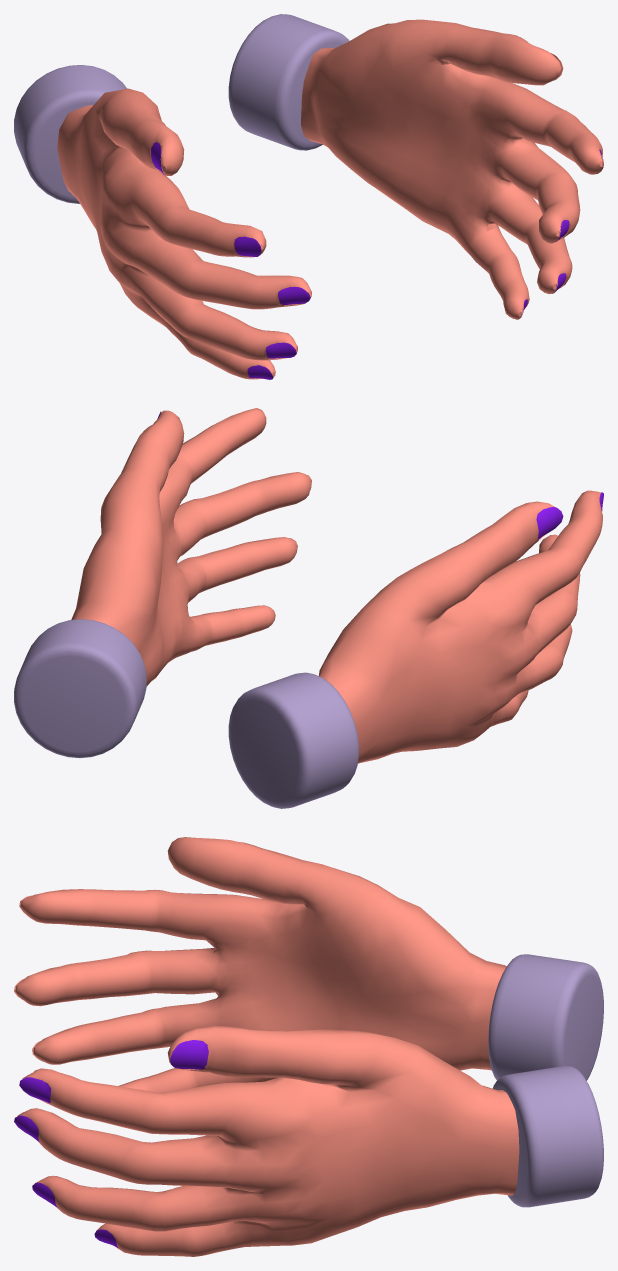
File: Hands.FBX
3 renders of one model, top to bottom at view 1: azimuth 30°, elevation 25°; view 2: azimuth 150°, elevation 25°; view 3: azimuth 270°, elevation 25°, orthographic. The views are drawn at different scales.
Parts seen in each view (by area): view 1: Hand; view 2: Hand; view 3: Hand.
Boxes of the visible parts, x1,y1,x2,y2 form: Hand: (14, 14, 603, 379); Hand: (14, 408, 603, 808); Hand: (14, 837, 603, 1256).
Bounding box in the file's own units: 1571 × 831 × 1790.
